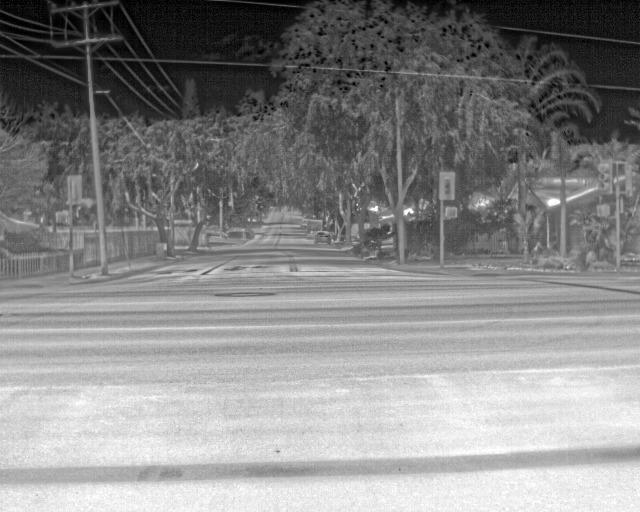car: (351, 223, 370, 238), (306, 219, 322, 234), (314, 231, 331, 245), (301, 219, 306, 229)
light: (597, 163, 610, 191), (597, 205, 610, 217), (444, 175, 451, 197), (632, 167, 637, 192), (447, 208, 457, 218)
sign: (67, 175, 83, 205)
